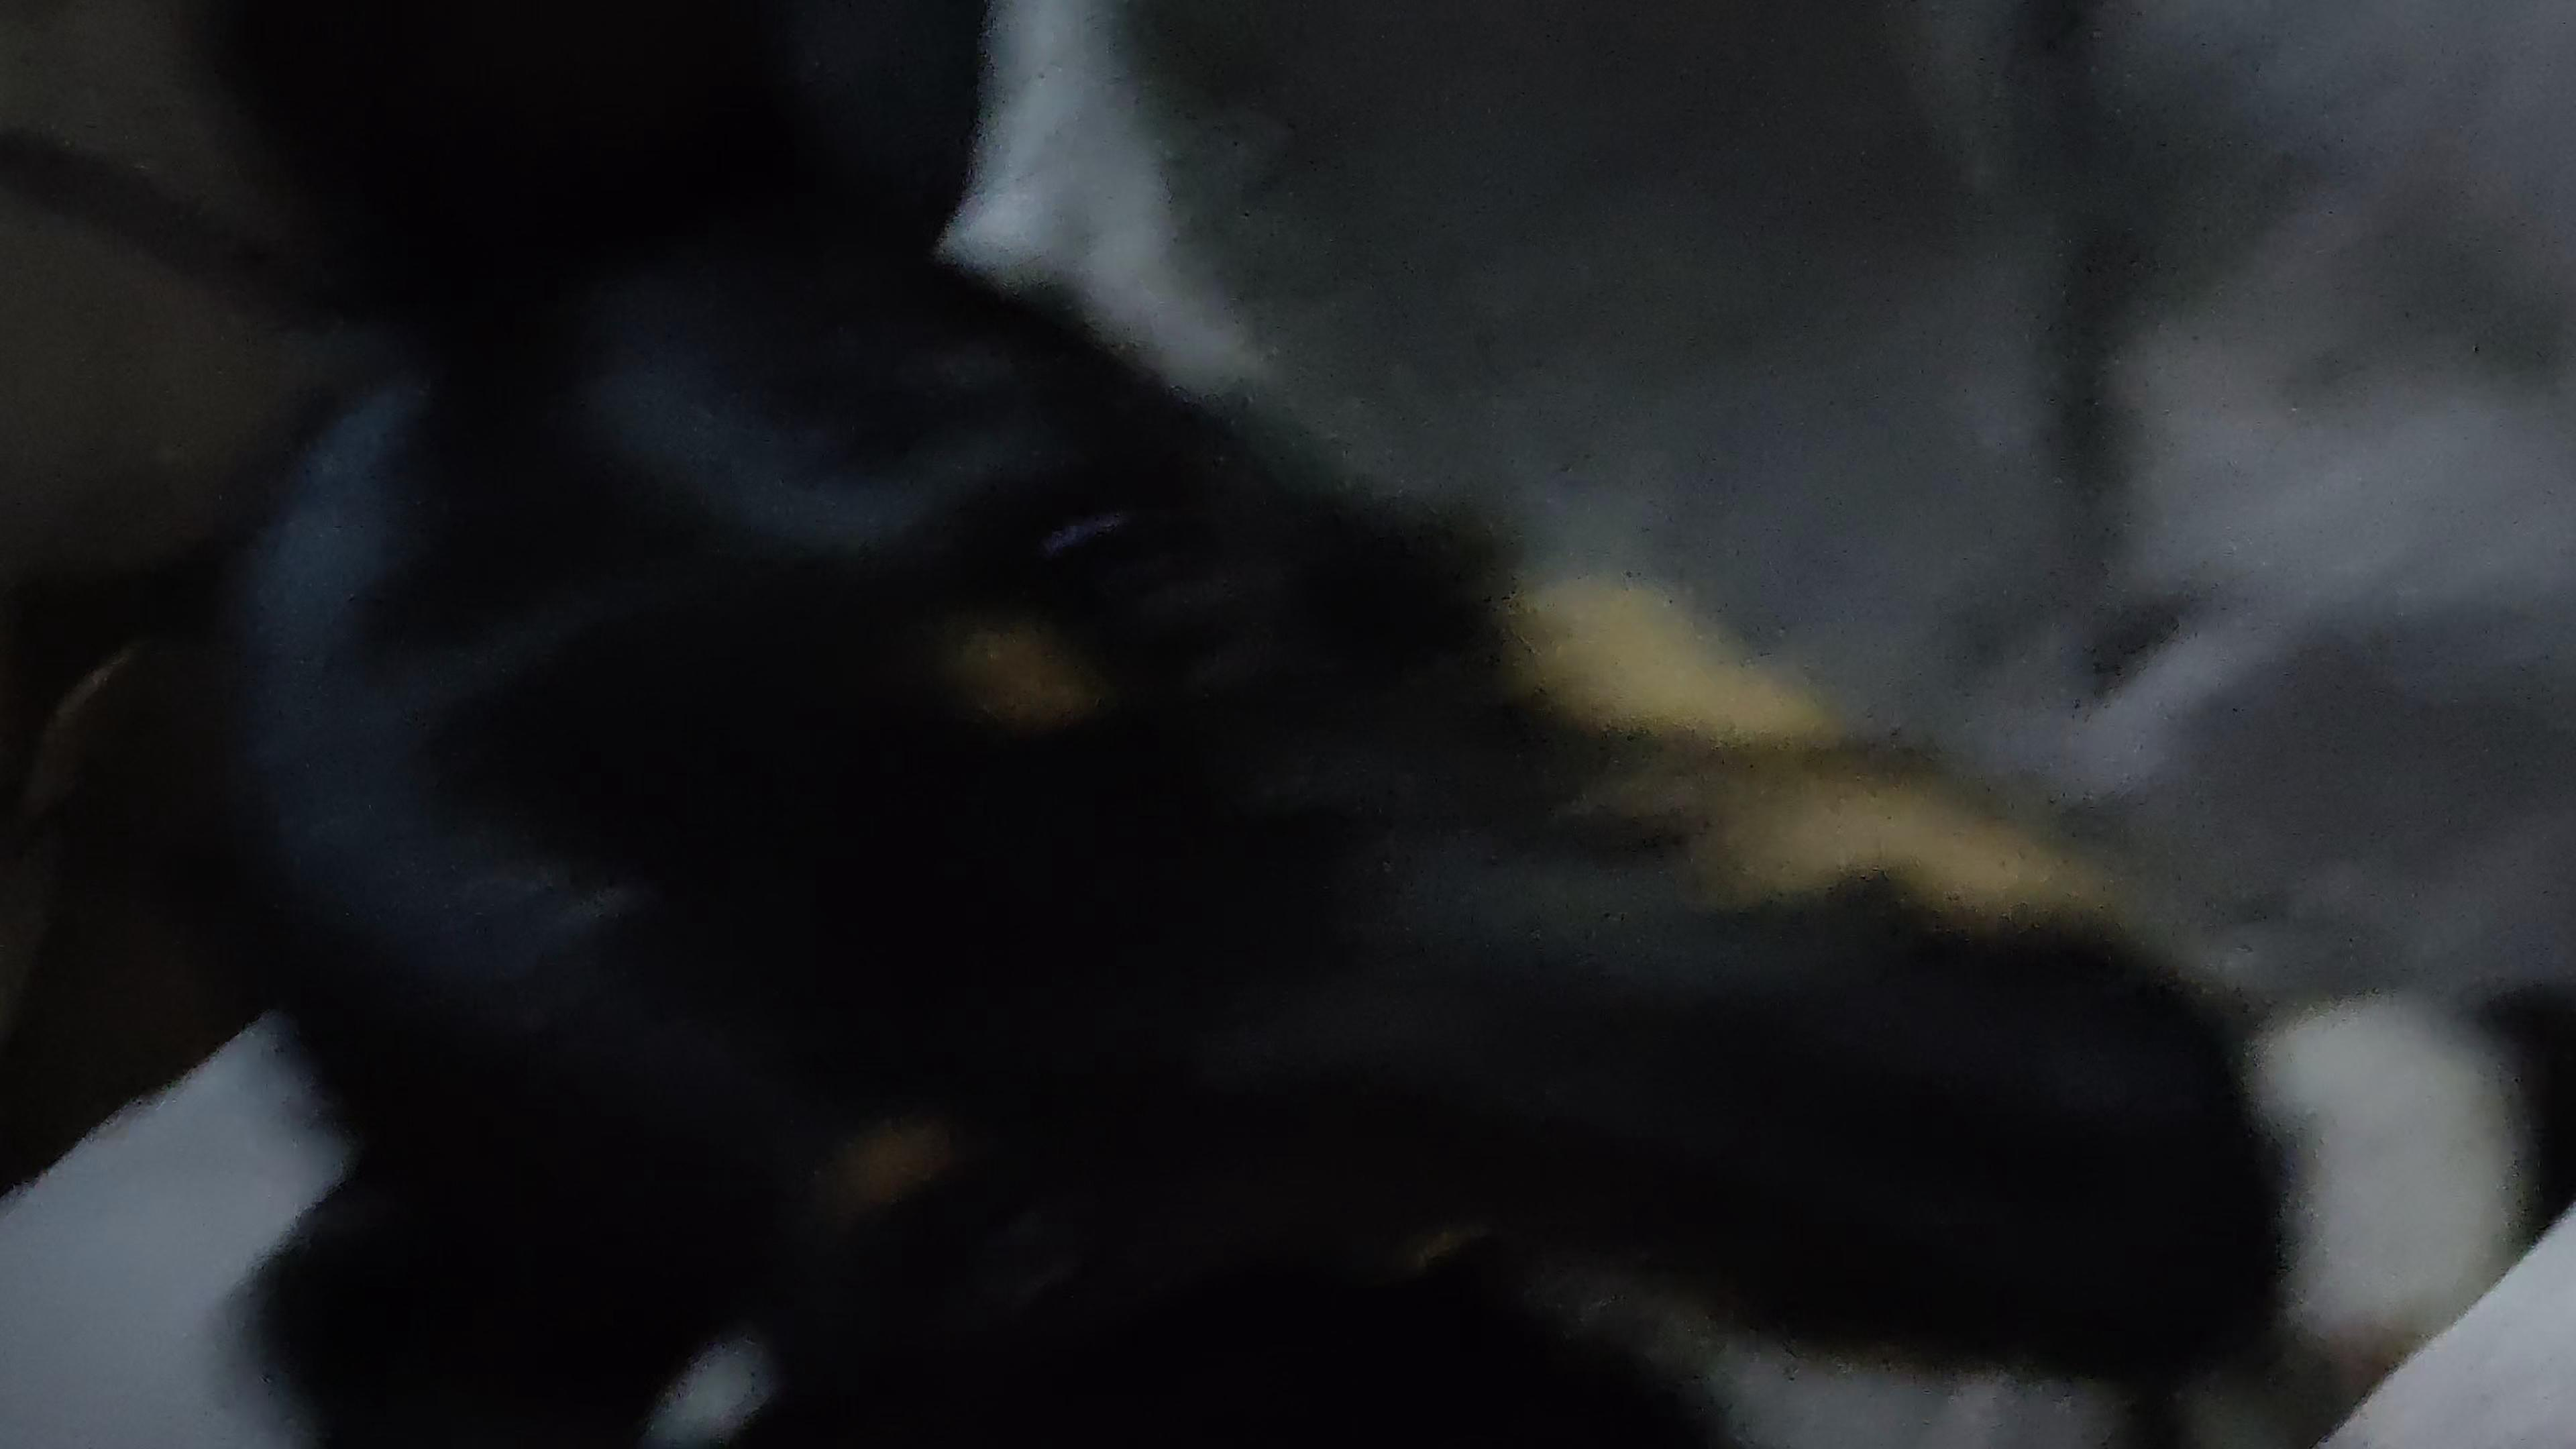Dog: (152, 0, 2576, 1449)
